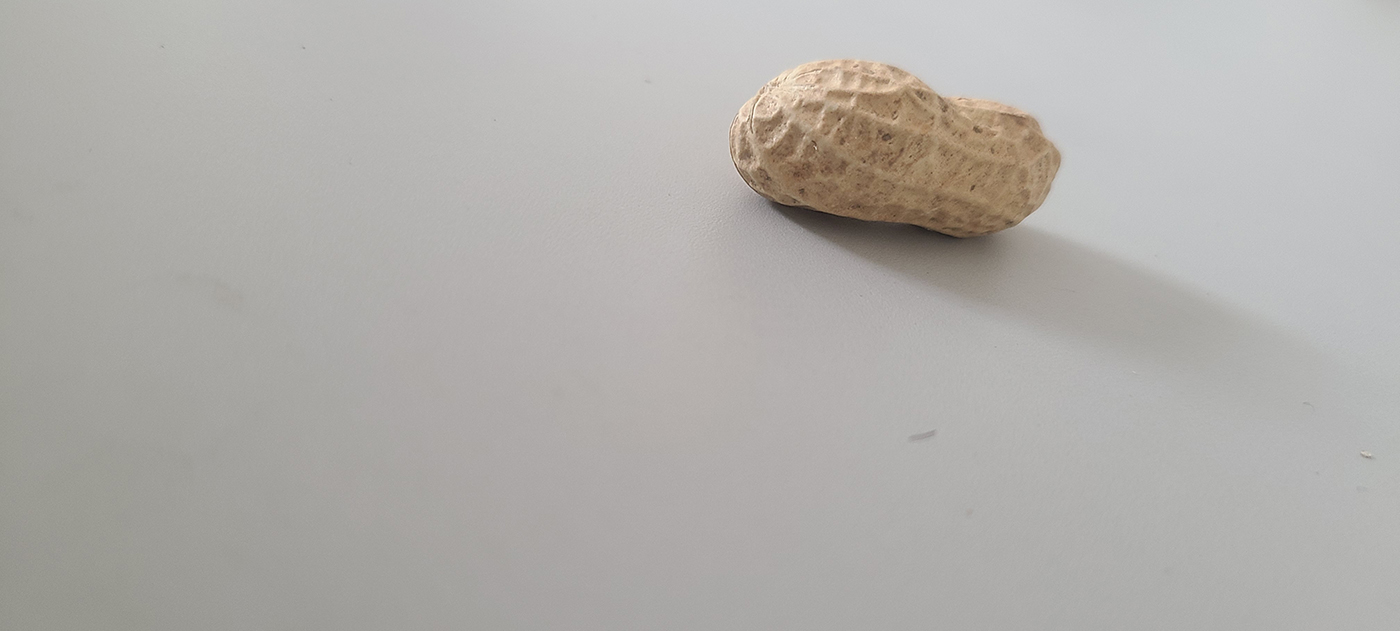h: (726, 57, 1062, 239)
